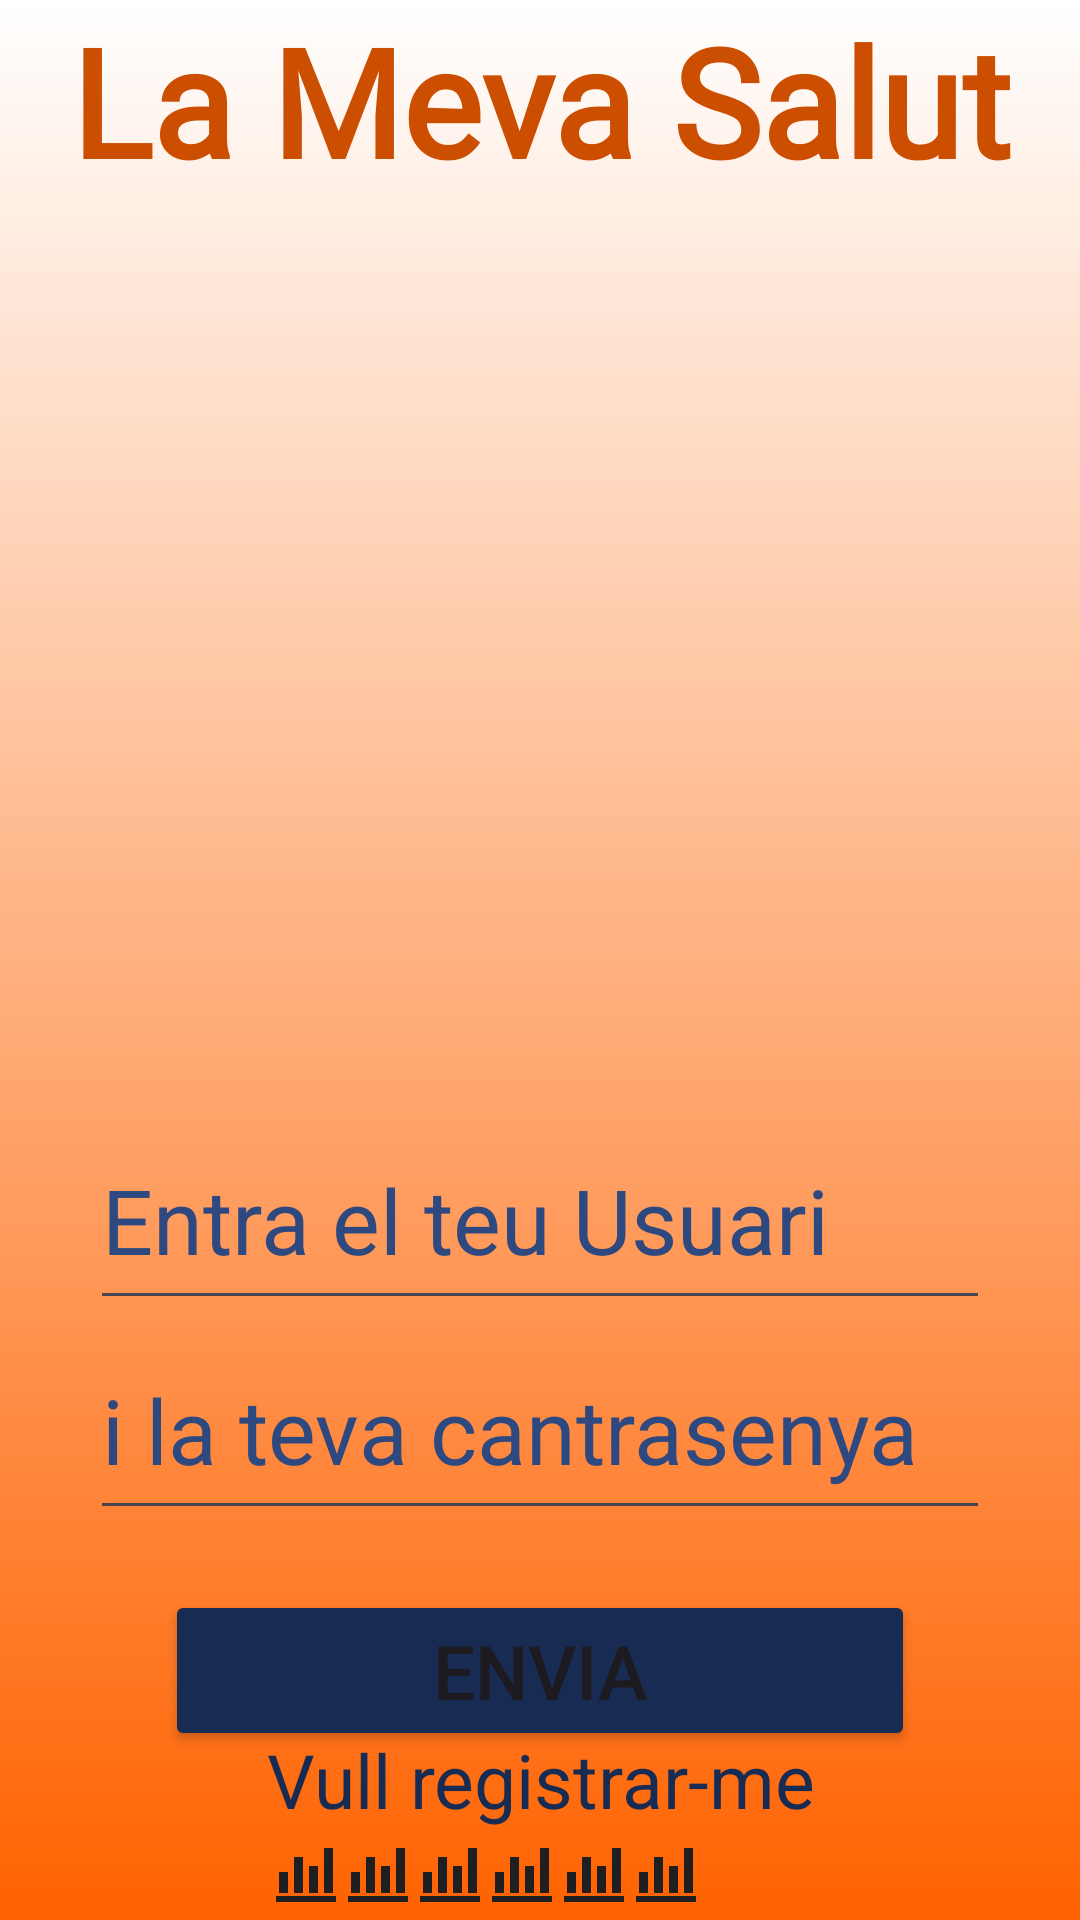

Named icons in this screenshot (1080px×1920px) and their centers, (x,y):
bars: (306,1875), (378,1875), (450,1875), (522,1875), (594,1875), (666,1875)
